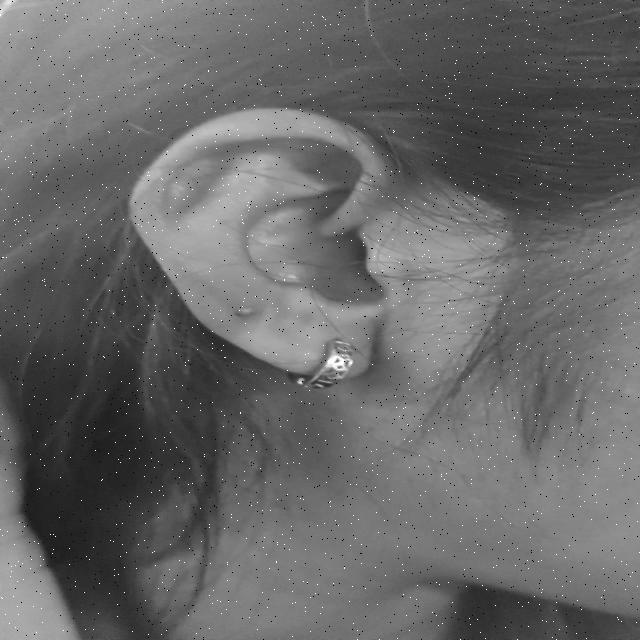ear: (129, 108, 396, 376)
